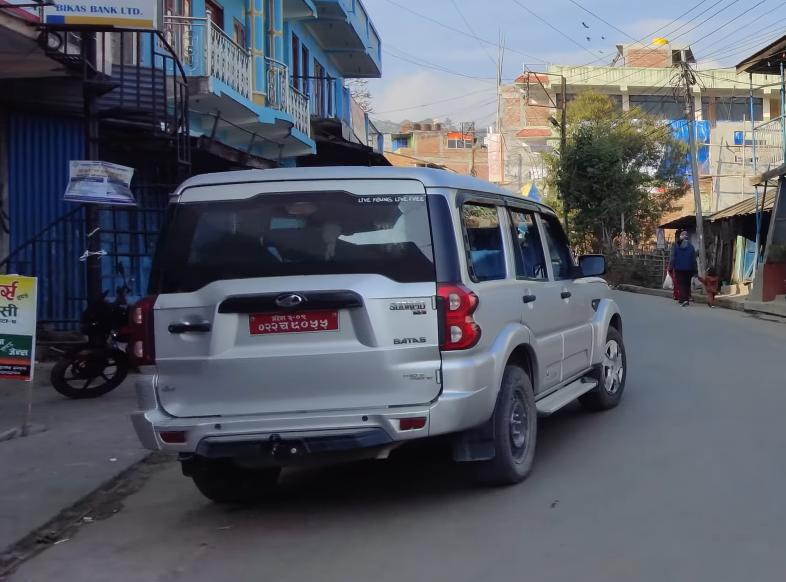SUV: (123, 162, 642, 505)
